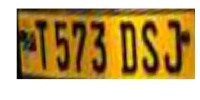T: (32, 18, 54, 71)
